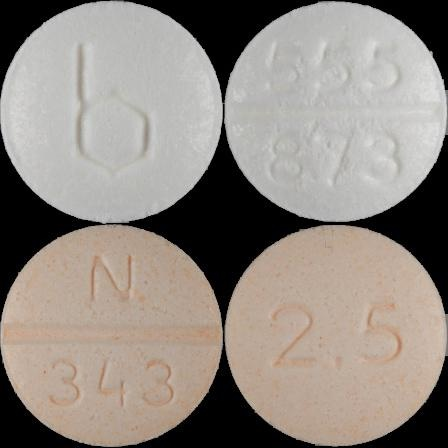50090-0491: (0, 0, 224, 224)
